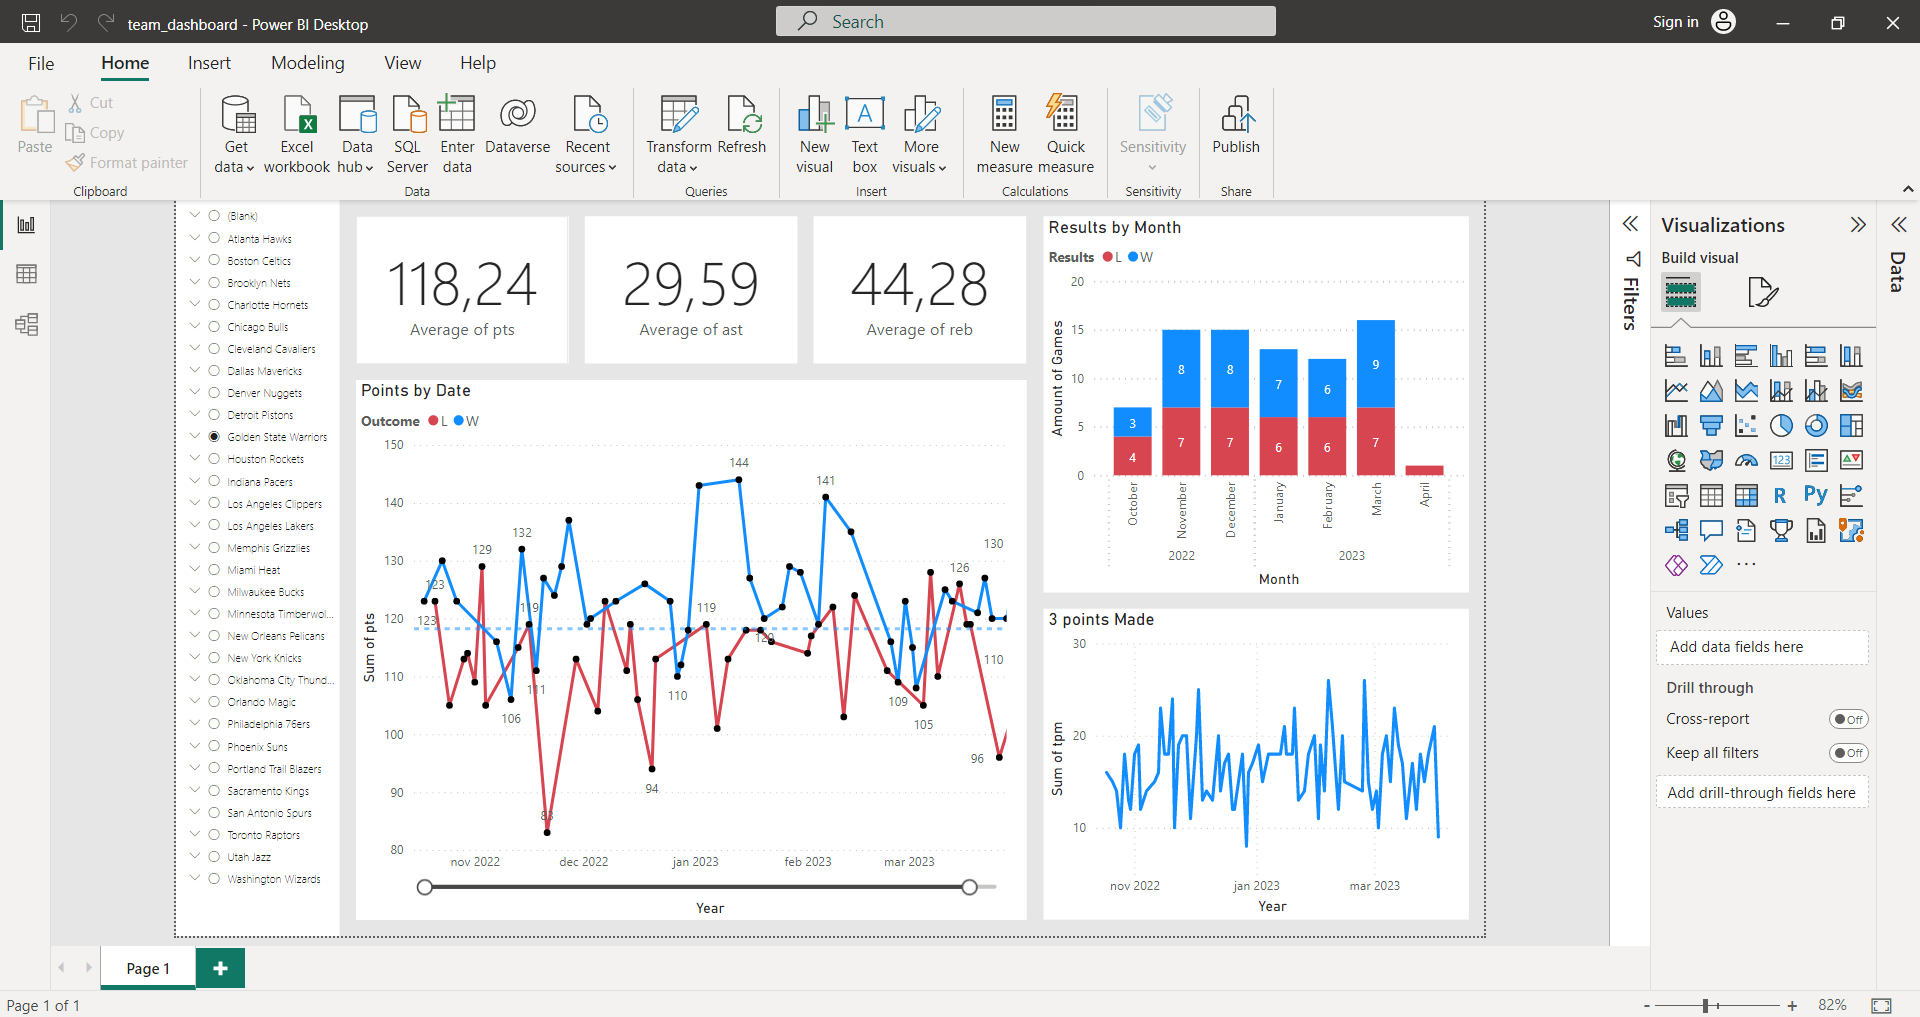

The page's visual inventory and layout, read from the dashboard file:
{"tool":"powerbi","page":{"name":"Page 1","canvas":[1280,720],"ordinal":0},"visuals":[{"type":"slicer","fields":{"Values":["team_info.team_name","match_stats.oreb"]},"box":[0,0,160,720],"z":0},{"type":"lineChart","title":"Points by Date","fields":{"Y":["Sum(match_stats.pts)"],"Category":["game_dates.game_date.Variation.Date Hierarchy.Year","game_dates.game_date.Variation.Date Hierarchy.Month","game_dates.game_date.Variation.Date Hierarchy.Day"],"Series":["match_stats.result"]},"box":[176,176,656,528],"z":1000},{"type":"columnChart","title":"Results by Month","fields":{"Category":["game_dates.game_date.Variation.Date Hierarchy.Year","game_dates.game_date.Variation.Date Hierarchy.Month"],"Series":["match_stats.result"],"Y":["CountNonNull(match_stats.result)"]},"box":[848,16,416,368],"z":2000},{"type":"card","fields":{"Values":["Avg(match_stats.pts)"]},"box":[176,16,208,144],"z":3000},{"type":"card","fields":{"Values":["Avg(match_stats.ast)"]},"box":[400,16,208,144],"z":4000},{"type":"card","fields":{"Values":["Avg(match_stats.reb)"]},"box":[624,16,208,144],"z":5000},{"type":"lineChart","fields":{"Category":["game_dates.game_date.Variation.Date Hierarchy.Year","game_dates.game_date.Variation.Date Hierarchy.Month","game_dates.game_date.Variation.Date Hierarchy.Day"],"Y":["Sum(match_stats.tpm)"]},"box":[848,400,416,304],"z":6000}]}

Visuals, with their boxes on the page's 1280x720 design canvas (x1, y1, x2, y2). These are canvas units, not pixel positions in the 1920x1017 screenshot, which may show the page scaled, cropped or inside an application window:
slicer - team_info.team_name x match_stats.oreb: 0/0/160/720
"Points by Date" lineChart: 176/176/832/704
"Results by Month" columnChart: 848/16/1264/384
card - Avg(match_stats.pts): 176/16/384/160
card - Avg(match_stats.ast): 400/16/608/160
card - Avg(match_stats.reb): 624/16/832/160
lineChart - game_dates.game_date.Variation.Date Hierarchy.Year x game_dates.game_date.Variation.Date Hierarchy.Month: 848/400/1264/704
